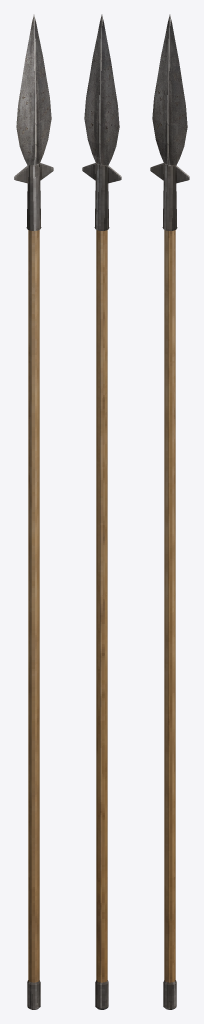
The model's file is leaf-spear.glb.
3 renders of one model, left to right at view 1: azimuth 30°, elevation 25°; view 2: azimuth 150°, elevation 25°; view 3: azimuth 330°, elevation 25°, orthographic.
Parts seen in each view (by area): view 1: Plain_Honey_Ash_Shaft, Long_Leaf_Diamond_Ridge, Long_Fitted_Tapered_Socket, Closed_Narrow_Butt_Ferrule, Blunt_Triangular_Basal_Wing_-1, Blunt_Triangular_Basal_Wing_1; view 2: Plain_Honey_Ash_Shaft, Long_Leaf_Diamond_Ridge, Long_Fitted_Tapered_Socket, Closed_Narrow_Butt_Ferrule, Blunt_Triangular_Basal_Wing_-1, Blunt_Triangular_Basal_Wing_1; view 3: Plain_Honey_Ash_Shaft, Long_Leaf_Diamond_Ridge, Long_Fitted_Tapered_Socket, Closed_Narrow_Butt_Ferrule, Blunt_Triangular_Basal_Wing_1, Blunt_Triangular_Basal_Wing_-1.
Boxes of the visible parts, x1,y1,x2,y2 form: Plain_Honey_Ash_Shaft: (28, 230, 39, 982); Long_Leaf_Diamond_Ridge: (16, 14, 51, 165); Long_Fitted_Tapered_Socket: (26, 162, 41, 230); Closed_Narrow_Butt_Ferrule: (27, 980, 40, 1009); Blunt_Triangular_Basal_Wing_-1: (14, 165, 28, 183); Blunt_Triangular_Basal_Wing_1: (40, 163, 53, 180); Plain_Honey_Ash_Shaft: (96, 230, 107, 982); Long_Leaf_Diamond_Ridge: (84, 14, 119, 165); Long_Fitted_Tapered_Socket: (94, 162, 109, 230); Closed_Narrow_Butt_Ferrule: (95, 980, 108, 1009); Blunt_Triangular_Basal_Wing_-1: (107, 165, 121, 183); Blunt_Triangular_Basal_Wing_1: (82, 163, 95, 180); Plain_Honey_Ash_Shaft: (164, 230, 175, 982); Long_Leaf_Diamond_Ridge: (152, 14, 187, 165); Long_Fitted_Tapered_Socket: (162, 162, 177, 230); Closed_Narrow_Butt_Ferrule: (163, 980, 176, 1009); Blunt_Triangular_Basal_Wing_1: (175, 165, 189, 183); Blunt_Triangular_Basal_Wing_-1: (150, 163, 163, 180).
Size of the model in its own units: 0.095 by 2.33 by 0.03.
6 materials, 6 textured.
